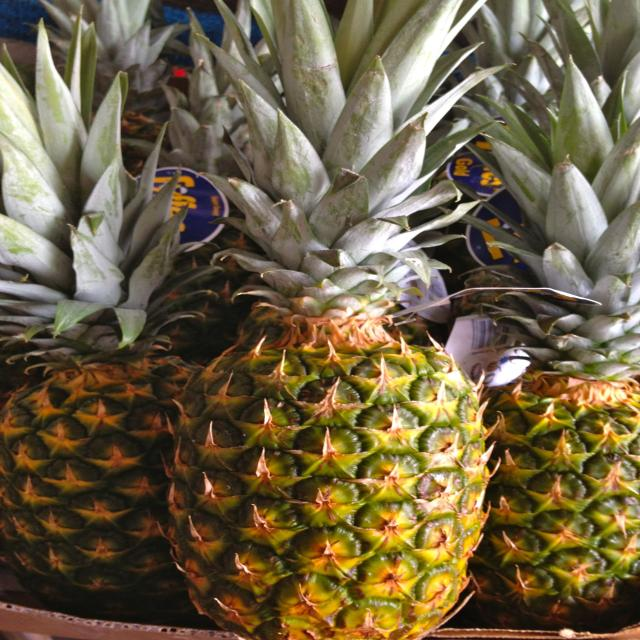pineapple: (162, 201, 493, 640), (7, 297, 209, 612), (483, 283, 640, 635)
